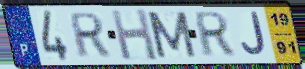4: (40, 8, 71, 63)
H: (108, 7, 160, 63)
J: (240, 11, 268, 57)
M: (144, 10, 199, 60)
R: (193, 10, 236, 59), (69, 11, 111, 60)
